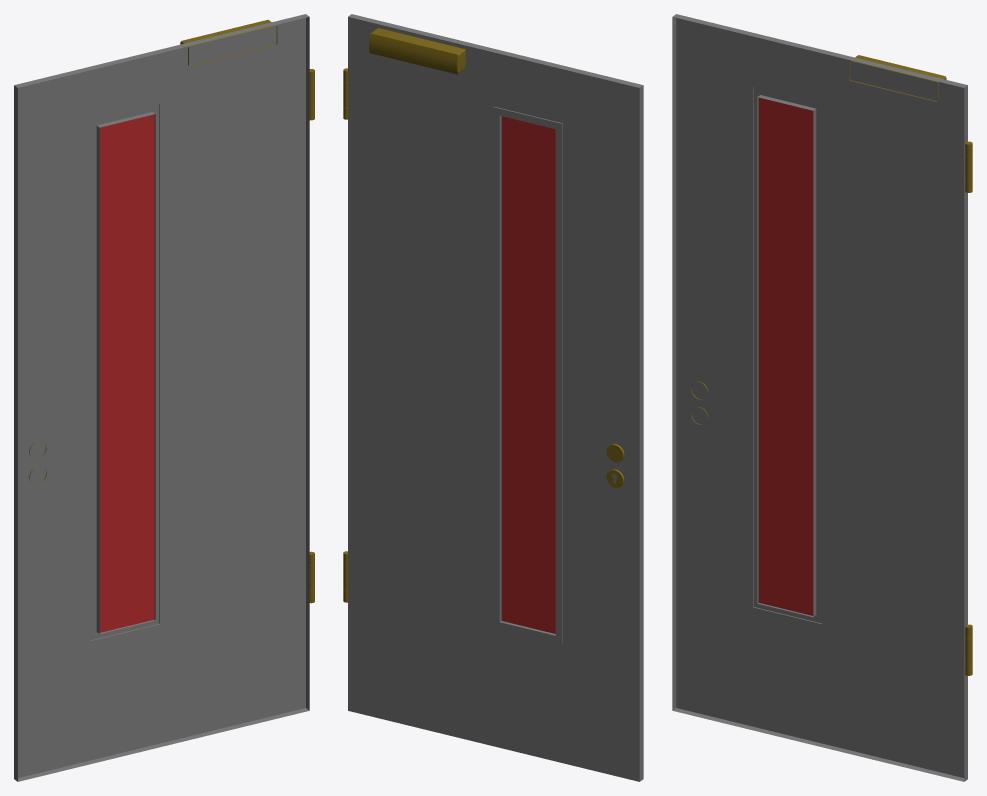
File: SM_Door_Right.fbx
3 renders of one model, left to right at view 1: azimuth 30°, elevation 25°; view 2: azimuth 150°, elevation 25°; view 3: azimuth 330°, elevation 25°, orthographic.
Visible parts, largest first — view 1: SM_Door_Right; view 2: SM_Door_Right; view 3: SM_Door_Right.
Part boxes in pixels (x1,y1,x2,y2): SM_Door_Right: (14,14,314,781); SM_Door_Right: (343,14,643,781); SM_Door_Right: (672,14,972,781).
Size of the model in its own units: 101 by 224 by 7.3.
